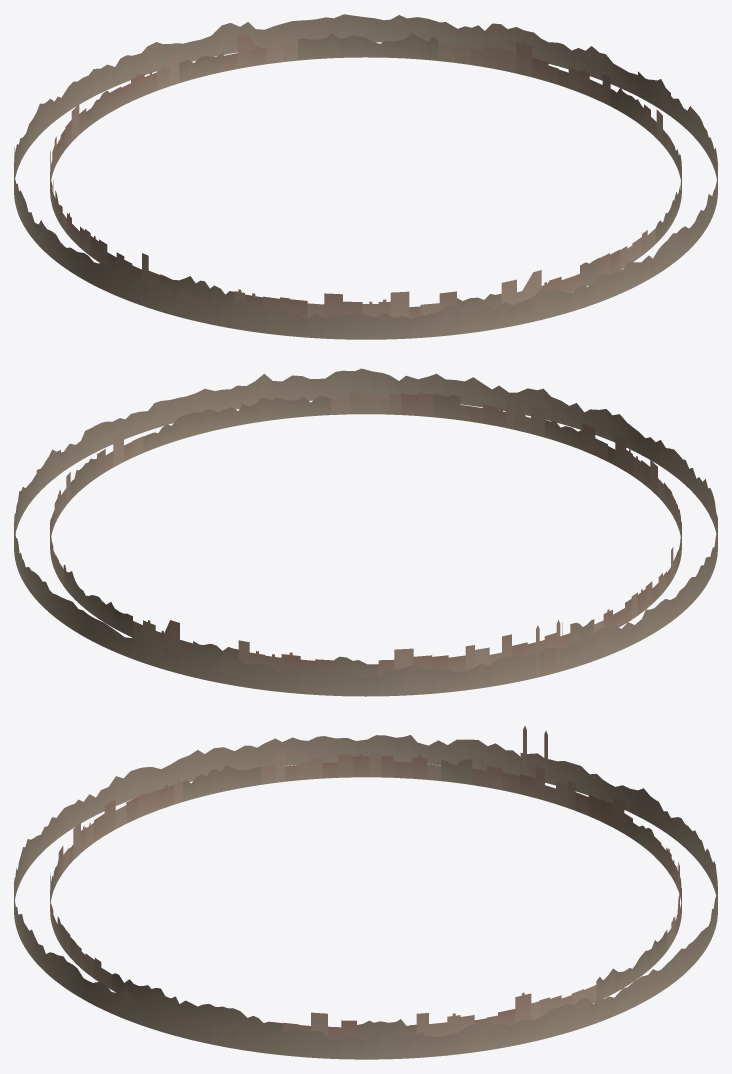
Rendered from barrio_horizonte.glb.
3 renders of one model, top to bottom at view 1: azimuth 30°, elevation 25°; view 2: azimuth 150°, elevation 25°; view 3: azimuth 270°, elevation 25°, orthographic.
Parts seen in each view (by area): view 1: horizonte_anillo; view 2: horizonte_anillo; view 3: horizonte_anillo.
Part boxes in pixels (x1,y1,x2,y2): horizonte_anillo: [14, 14, 717, 339]; horizonte_anillo: [14, 368, 717, 696]; horizonte_anillo: [14, 726, 717, 1059].
Bounding box in the file's own units: 312 × 25.78 × 312.
